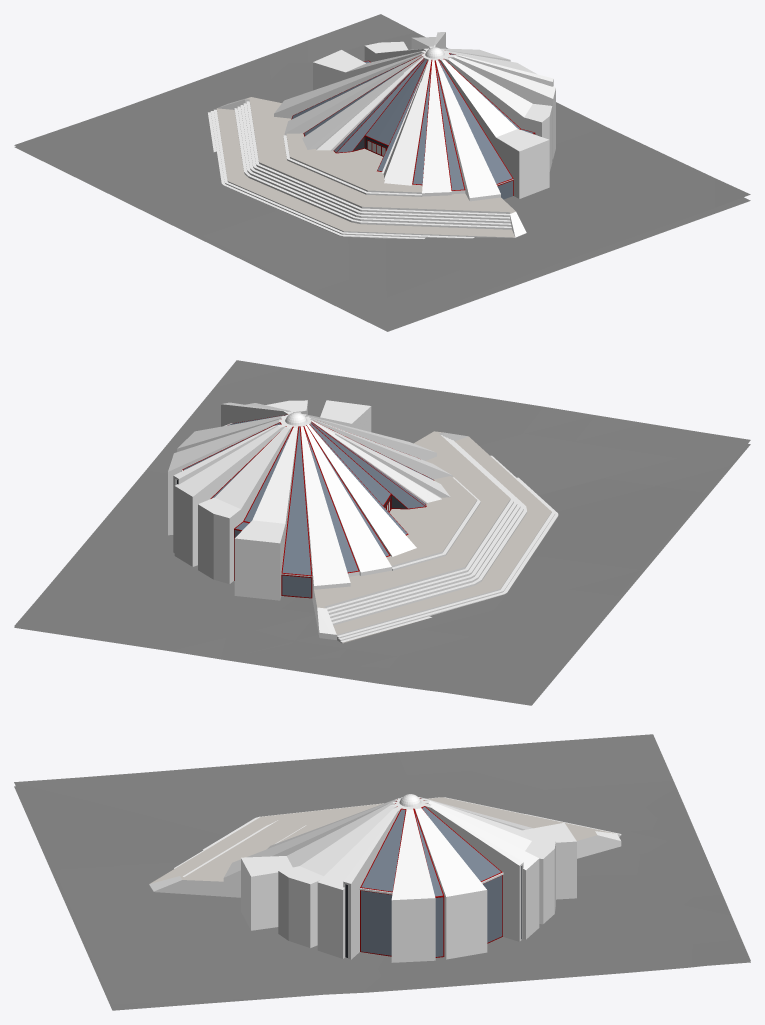
File: piramid.obj
3 views of the same model, one above another, from view 1: azimuth 30°, elevation 25°; view 2: azimuth 150°, elevation 25°; view 3: azimuth 270°, elevation 25° (orthographic). The views are drawn at different scales.
Parts seen in each view (by area): view 1: mesh-5, mesh-0, mesh-4, mesh-2, mesh-1; view 2: mesh-5, mesh-0, mesh-4, mesh-2, mesh-1; view 3: mesh-5, mesh-0, mesh-2, mesh-4, mesh-1.
Part boxes in pixels (x1,y1,x2,y2): mesh-5: [14, 14, 750, 331]; mesh-0: [208, 32, 555, 239]; mesh-4: [208, 97, 515, 237]; mesh-2: [292, 53, 534, 199]; mesh-1: [291, 53, 535, 195]; mesh-5: [14, 360, 750, 705]; mesh-0: [168, 400, 558, 643]; mesh-4: [314, 431, 551, 642]; mesh-2: [183, 415, 433, 597]; mesh-1: [182, 414, 434, 598]; mesh-5: [14, 734, 750, 1010]; mesh-0: [149, 794, 621, 962]; mesh-2: [361, 801, 502, 956]; mesh-4: [150, 797, 615, 883]; mesh-1: [360, 798, 502, 957].
Size of the model in its own units: 171 by 33.33 by 194.
